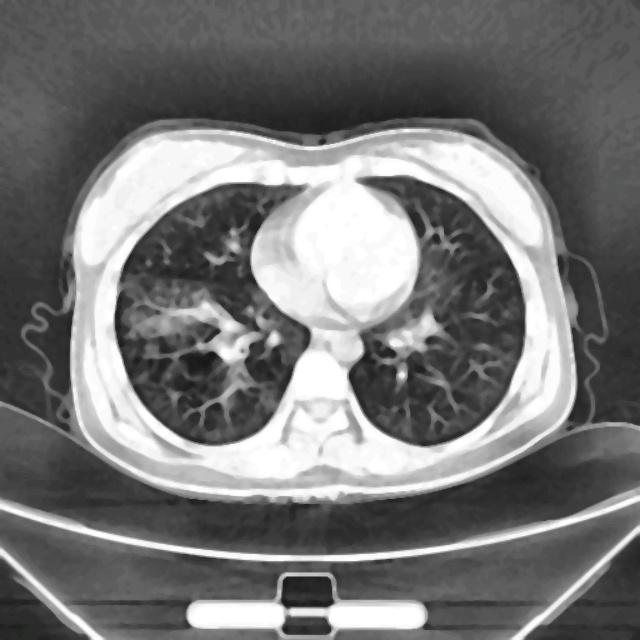covid: (52, 115, 583, 504)
